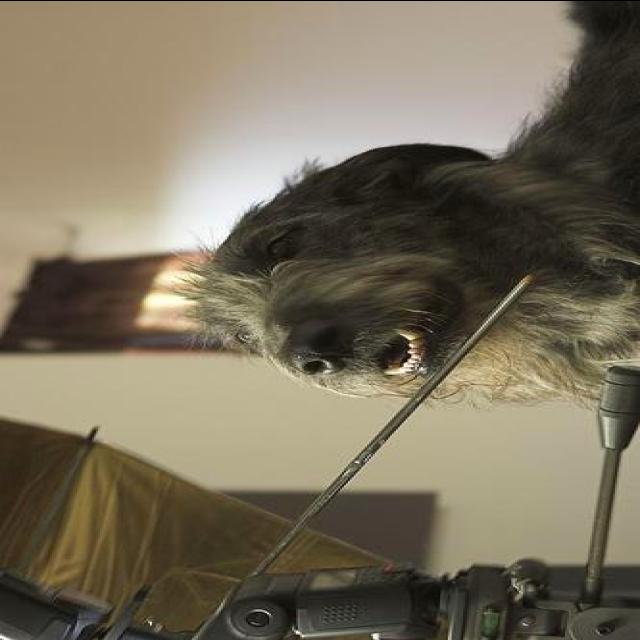irish_wolfhound: (167, 3, 638, 403)
